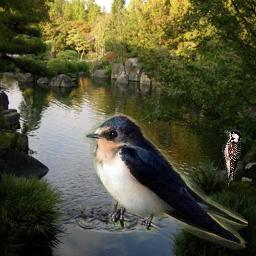Swallow: (84, 112, 248, 250)
Woodpecker: (222, 129, 241, 189)
